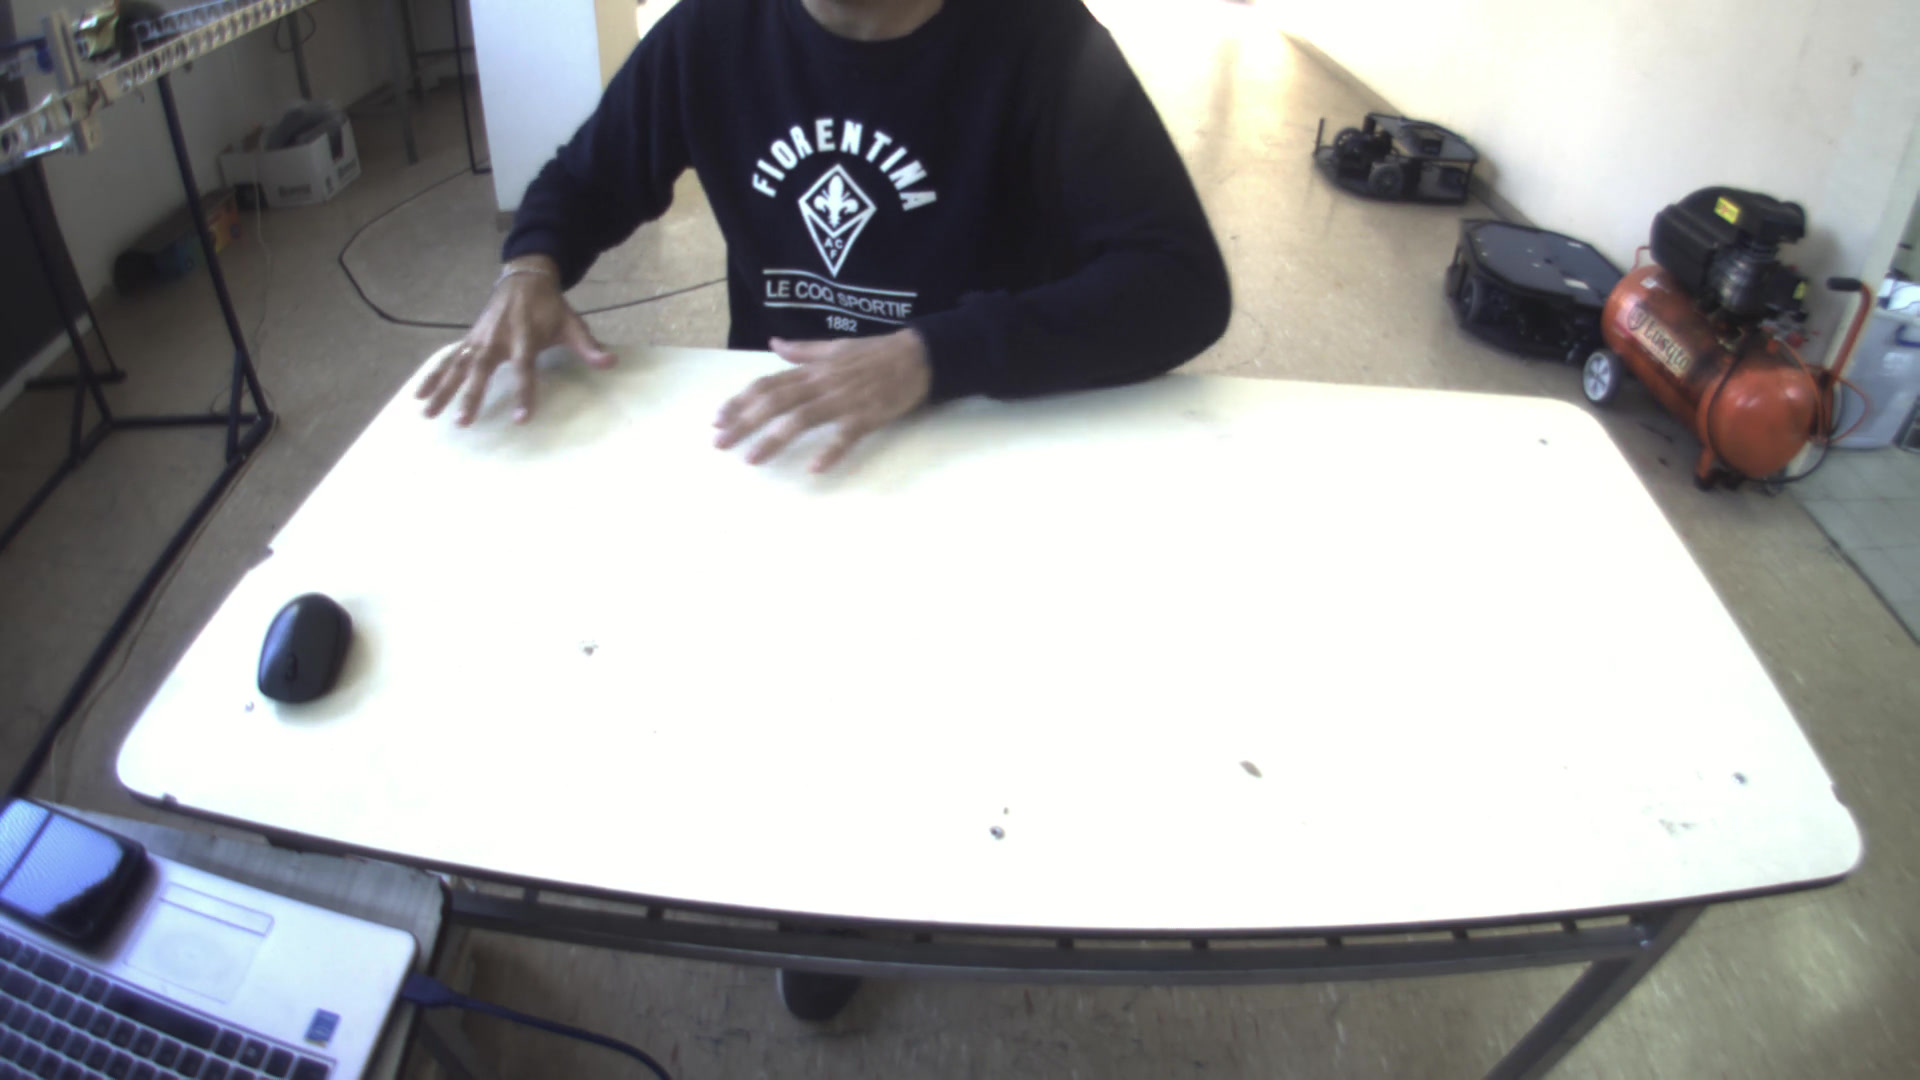hand: (394, 249, 615, 429), (698, 313, 932, 479)
